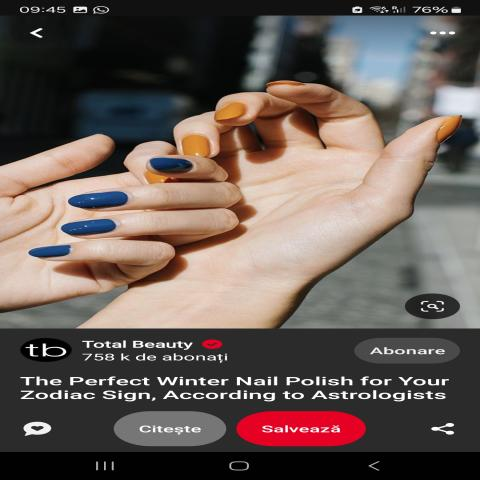hands: (147, 33, 464, 298), (23, 86, 258, 321)
